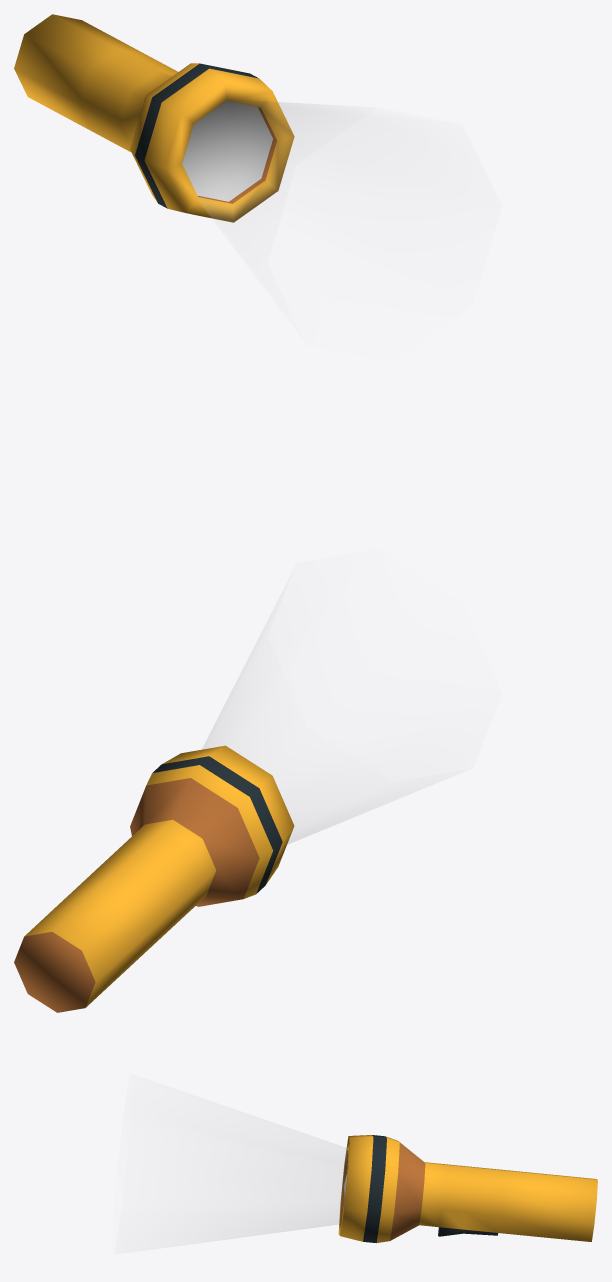
File: furnishings-lightsources-flashlight_v1.glb
3 renders of one model, top to bottom at view 1: azimuth 30°, elevation 25°; view 2: azimuth 150°, elevation 25°; view 3: azimuth 270°, elevation 25°, orthographic. The views are drawn at different scales.
Parts seen in each view (by area): view 1: Flashlight_base, Flashlight_light; view 2: Flashlight_base, Flashlight_light; view 3: Flashlight_base, Flashlight_light.
Boxes of the visible parts, x1,y1,x2,y2 form: Flashlight_base: (14, 14, 294, 222); Flashlight_light: (182, 100, 290, 242); Flashlight_base: (14, 745, 294, 1012); Flashlight_light: (203, 706, 330, 843); Flashlight_base: (338, 1135, 597, 1243); Flashlight_light: (269, 1125, 347, 1232).
Size of the model in its own units: 2.74 by 2.72 by 6.61.
